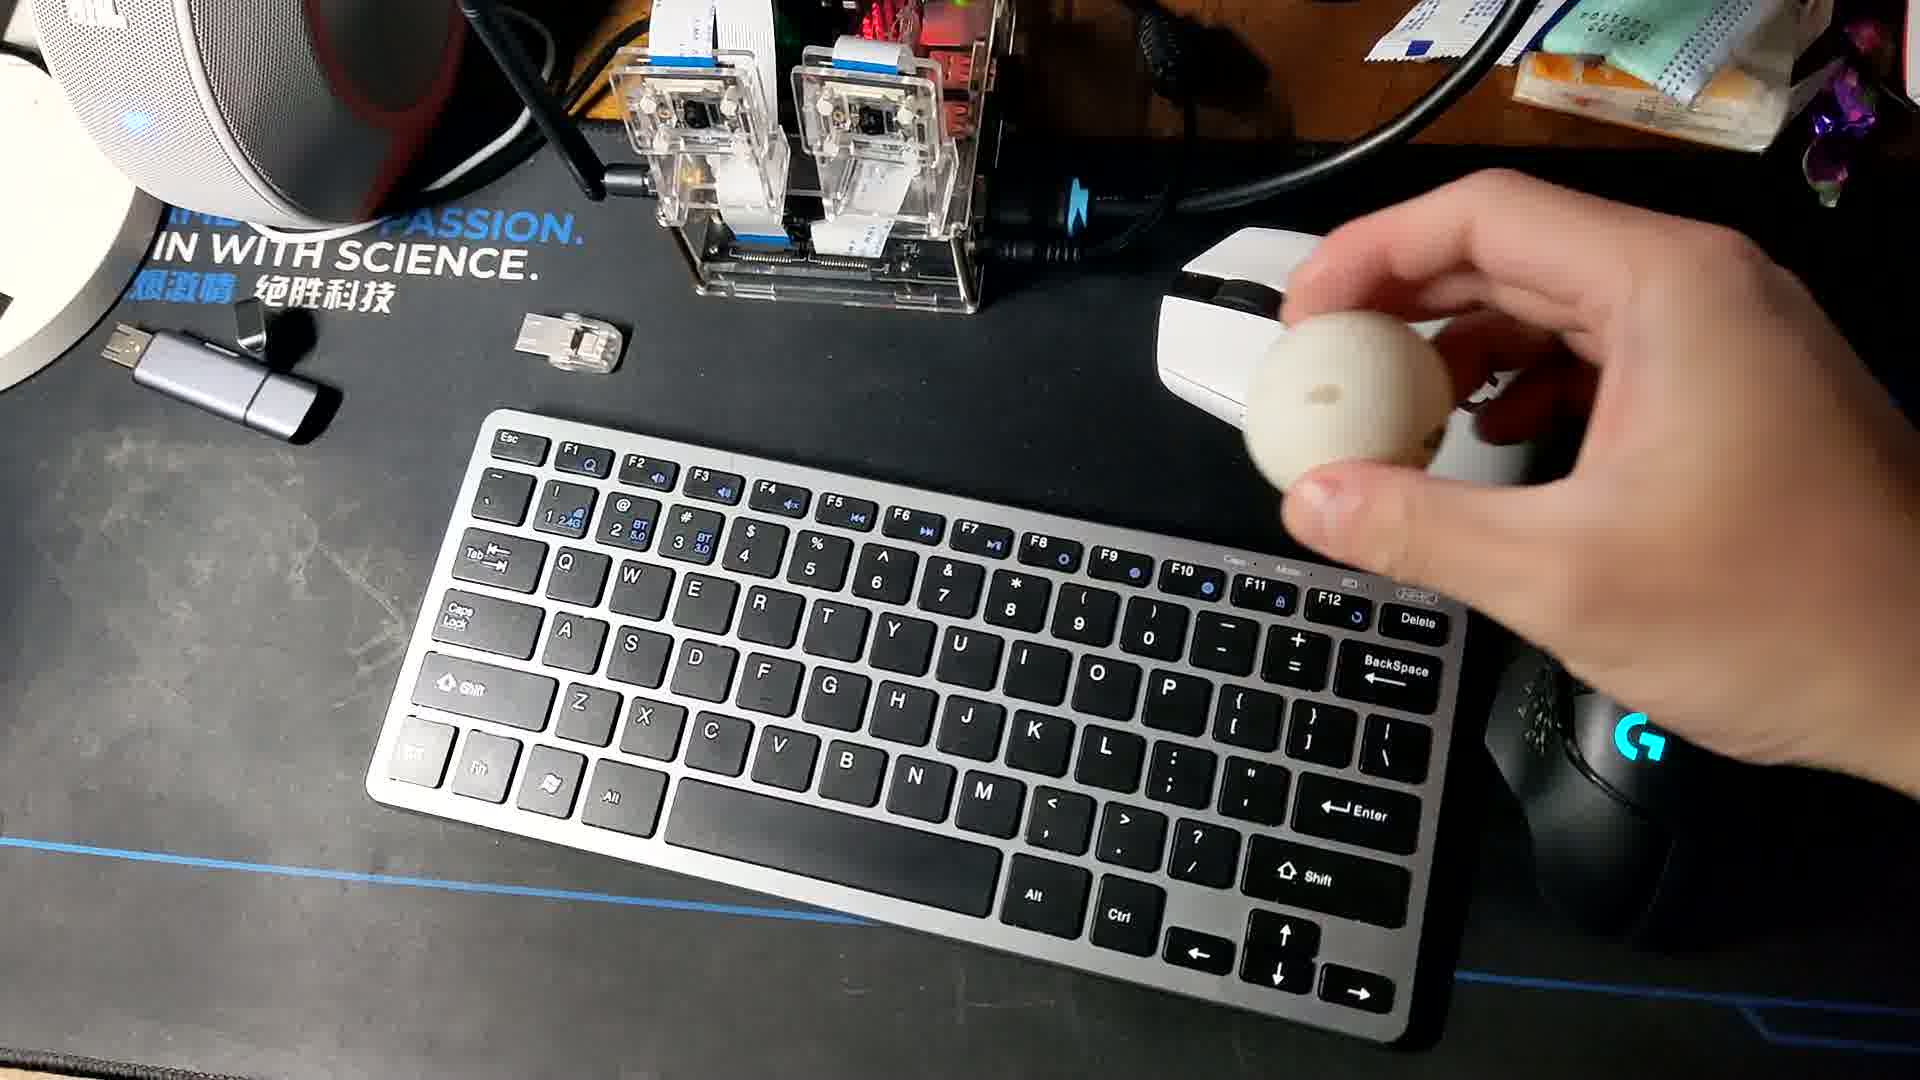Ball: (1244, 305, 1452, 498)
